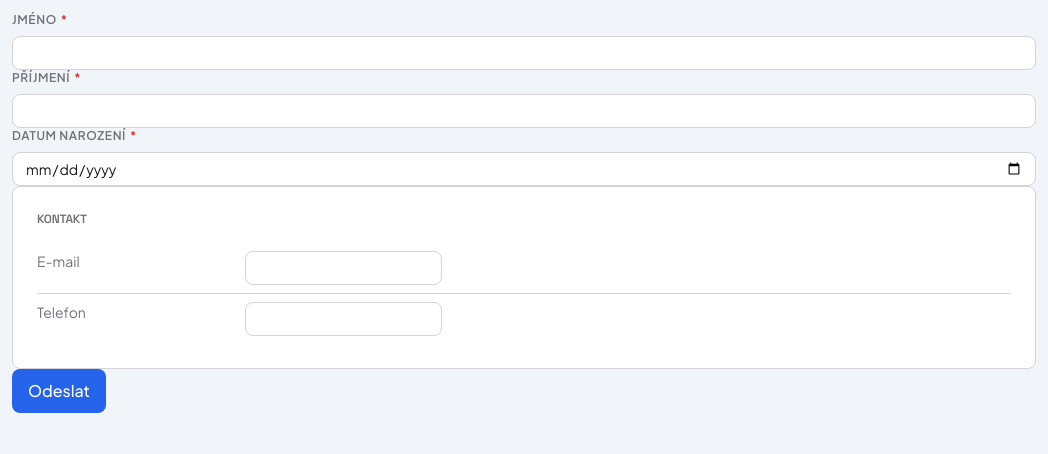
it: member registration form validation › shows a required-field error under a mandatory field left empty after leaving it
The width and height of the screenshot is (1048, 454).
Click the field labelled "Jméno*" at (524, 53), box [12,36,1036,70]
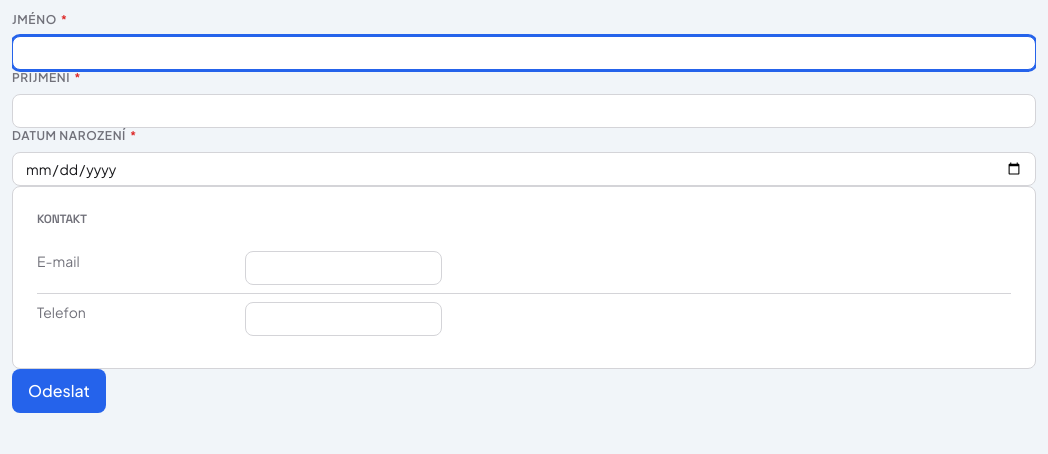
Press Tab
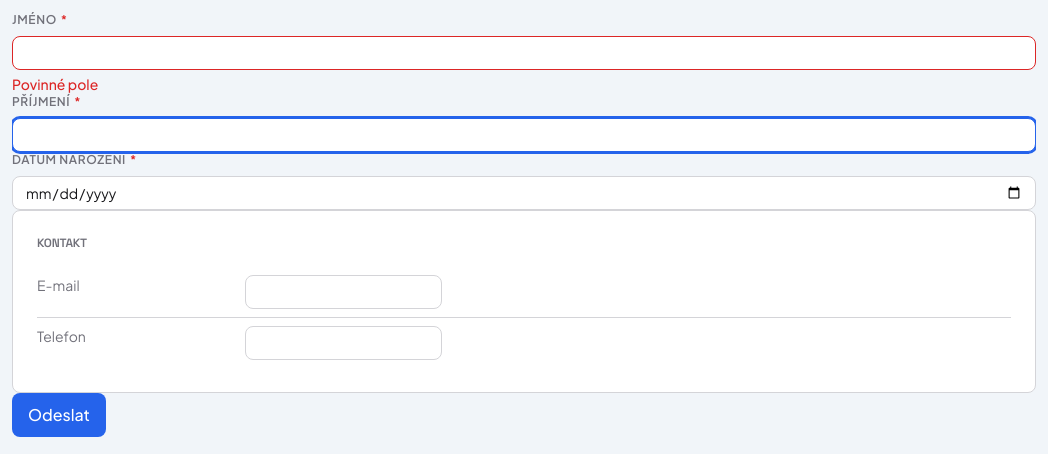
Expected: the text "Povinné pole" is shown, [12,75,98,93]
